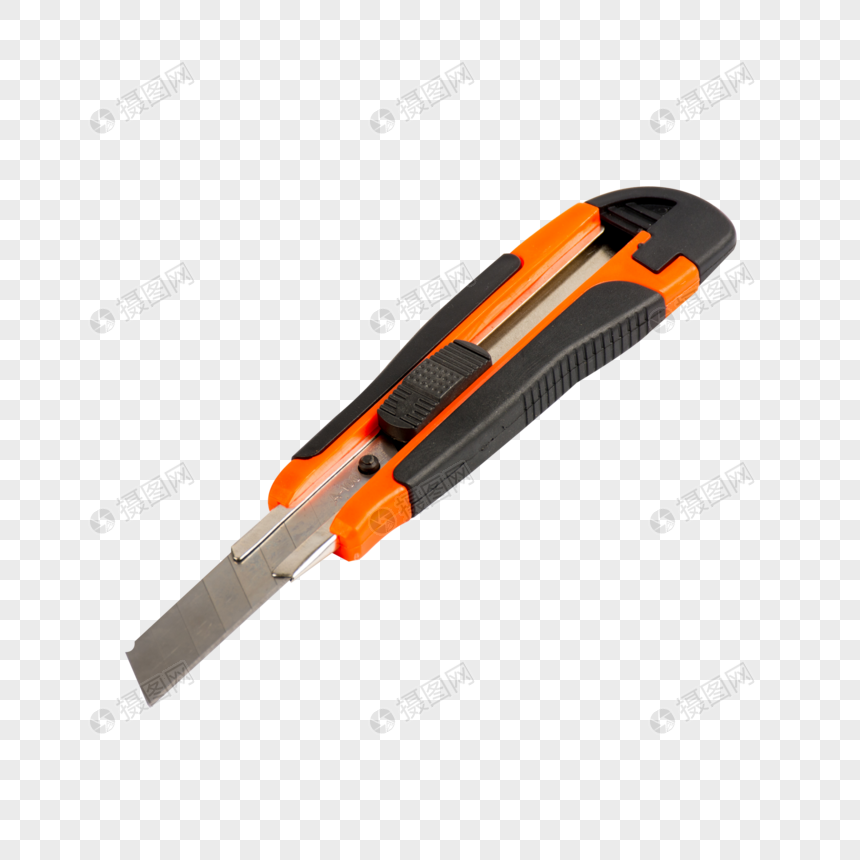cutter: (125, 184, 739, 709)
